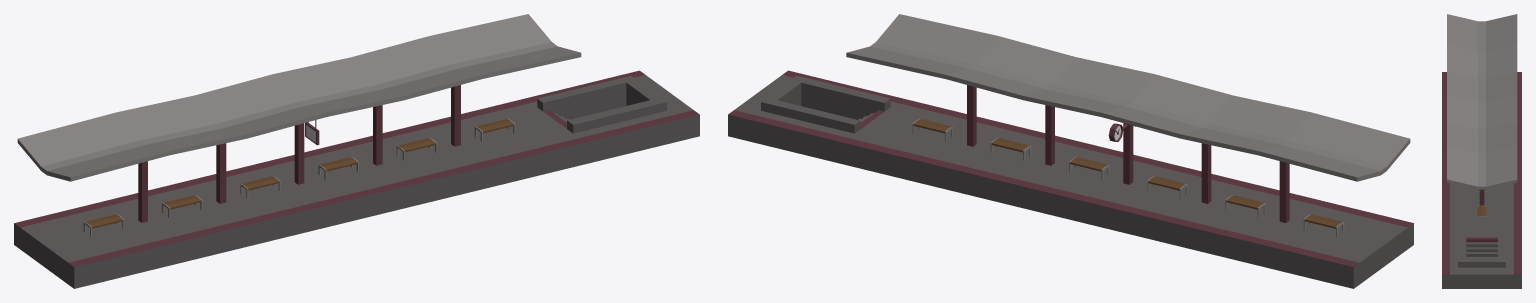
File: train-station-platform-stairs.fbx
3 views of the same model, side by side, from view 1: azimuth 30°, elevation 25°; view 2: azimuth 150°, elevation 25°; view 3: azimuth 270°, elevation 25° (orthographic). The views are drawn at different scales.
Visible parts, largest first — view 1: train-station-platform-stairs; view 2: train-station-platform-stairs; view 3: train-station-platform-stairs.
Part boxes in pixels (box(x1,y1,x2,y2)): train-station-platform-stairs: box(14, 14, 699, 288); train-station-platform-stairs: box(728, 14, 1413, 288); train-station-platform-stairs: box(1442, 14, 1521, 288).
Size of the model in its own units: 30.04 by 5.1 by 5.
